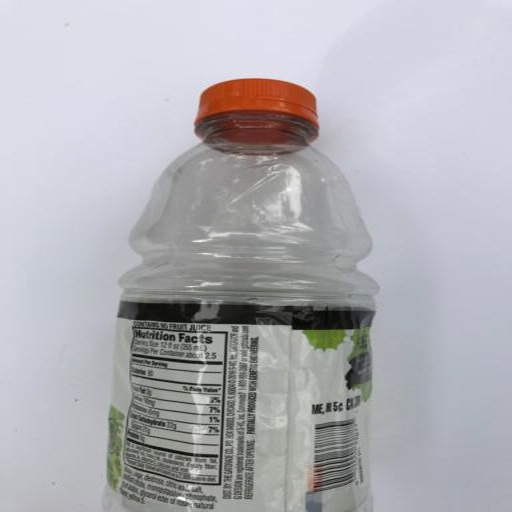Plastic_0: (108, 79, 380, 512)
